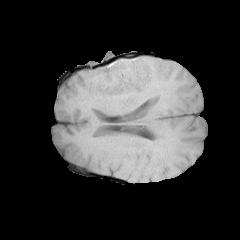glioma: (98, 59, 142, 92)
